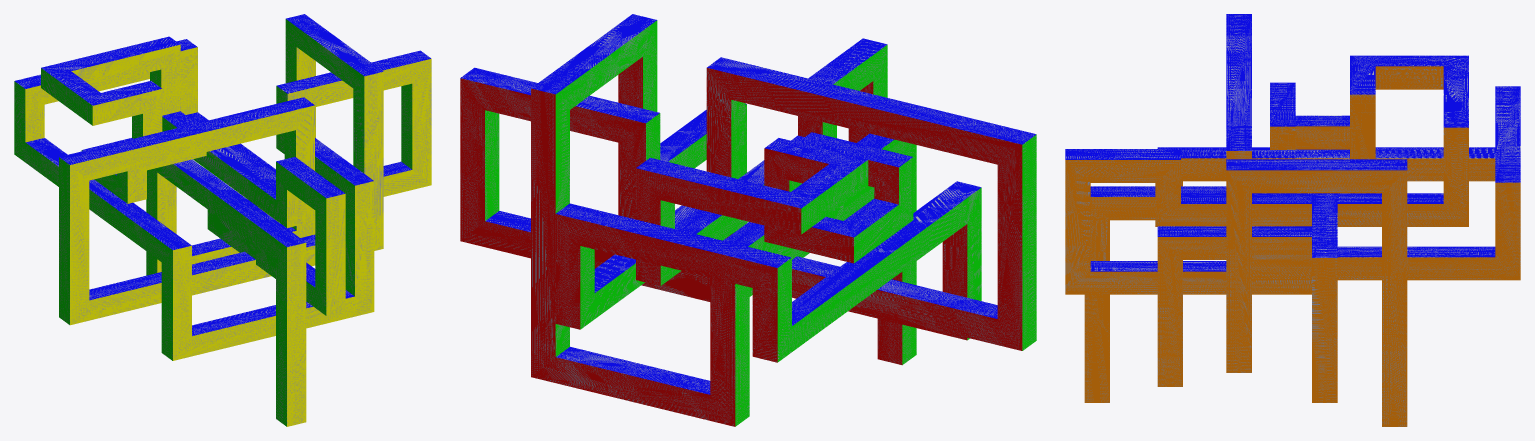
The picture shows the model from 3 angles, left to right: view 1: azimuth 30°, elevation 25°; view 2: azimuth 150°, elevation 25°; view 3: azimuth 270°, elevation 25°; orthographic projection. The views are drawn at different scales.
Visible parts, largest first — view 1: SketchUp (×35); view 2: SketchUp (×35); view 3: SketchUp (×25).
Boxes of the visible parts, left/top/right/bottom form: SketchUp (×35): left=14, top=14, right=431, bottom=426; SketchUp (×35): left=460, top=14, right=1036, bottom=426; SketchUp (×25): left=1065, top=14, right=1520, bottom=426.
Size of the model in its own units: 109 by 93.75 by 70.56.
